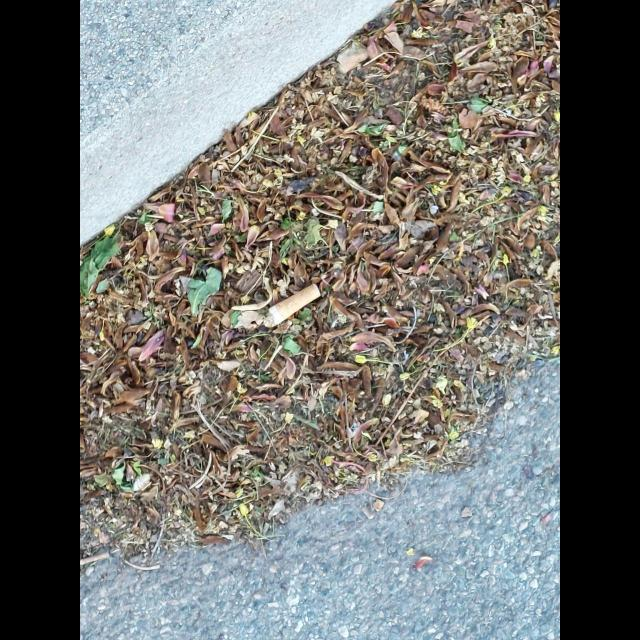cigarette: (264, 283, 321, 328)
